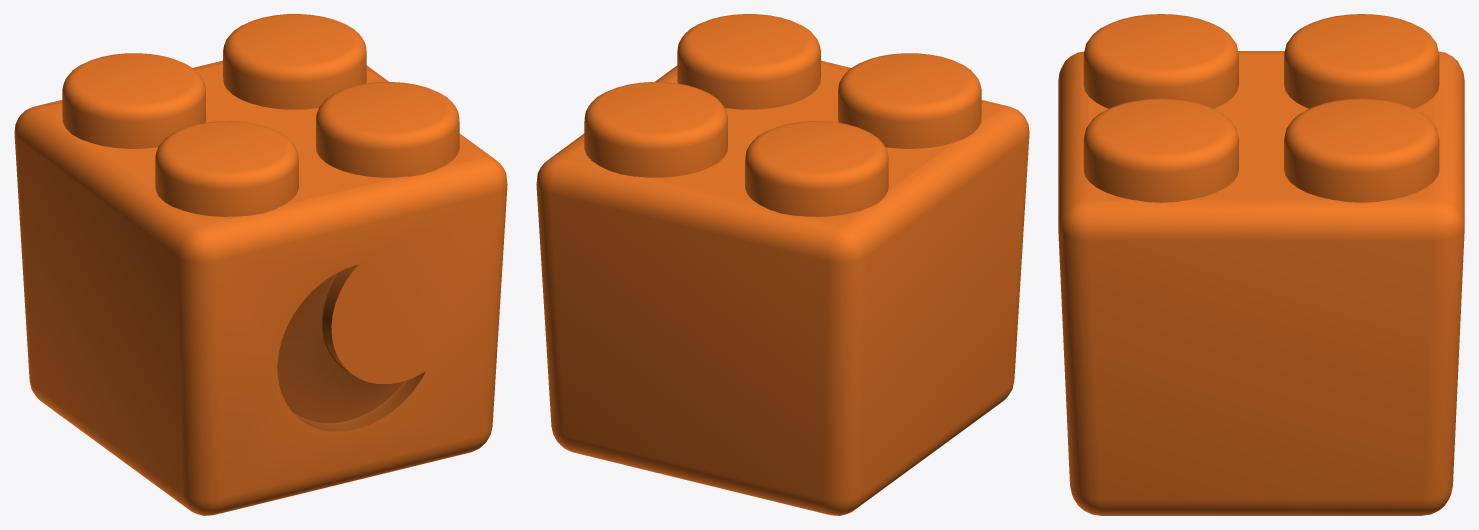
File: Block_Moon.fbx
3 renders of one model, left to right at view 1: azimuth 30°, elevation 25°; view 2: azimuth 150°, elevation 25°; view 3: azimuth 270°, elevation 25°, orthographic. The views are drawn at different scales.
Parts seen in each view (by area): view 1: Block_Moon; view 2: Block_Moon; view 3: Block_Moon.
Part boxes in pixels (left/top/right/bottom): Block_Moon: left=14, top=14, right=507, bottom=515; Block_Moon: left=536, top=14, right=1029, bottom=515; Block_Moon: left=1058, top=14, right=1464, bottom=515.
Size of the model in its own units: 99.39 by 97.5 by 99.39.
